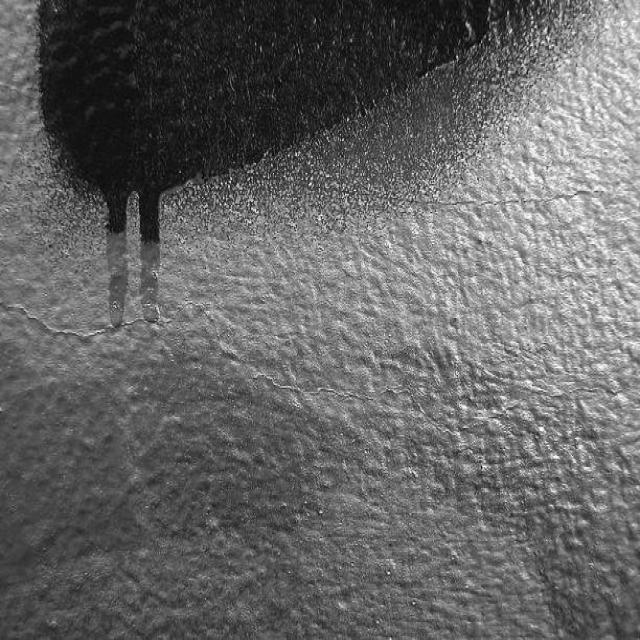paint drips: (84, 176, 168, 342)
